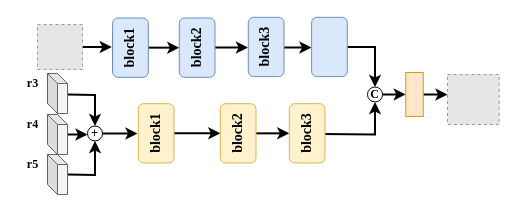
The diagram is 517 pixels wide and 213 high, and some of its shapes have lost their labels. Grey dashed boxes stand in for pictures. Here are the shapes that lost their labels. From the top down, the box of each, then its label:
(311, 16, 347, 77): block4
(405, 72, 423, 116): Conv
